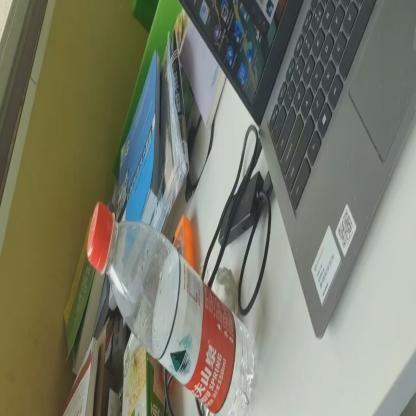Glass Bottle: (88, 203, 254, 415)
